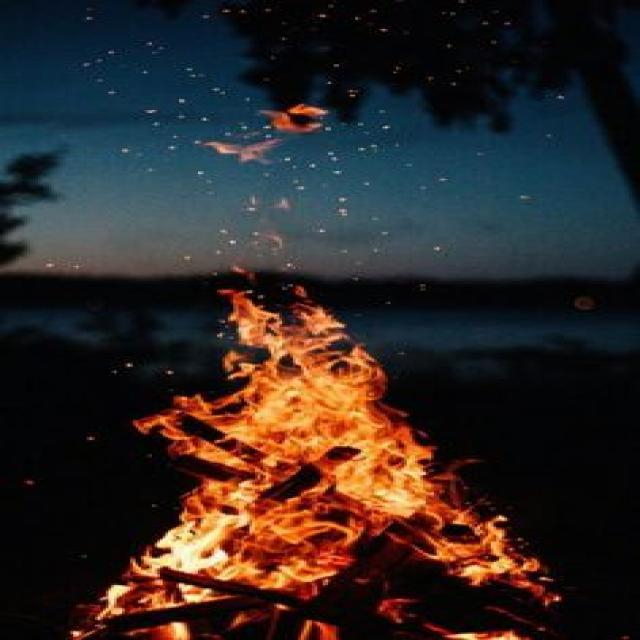Fire: (107, 306, 484, 638)
